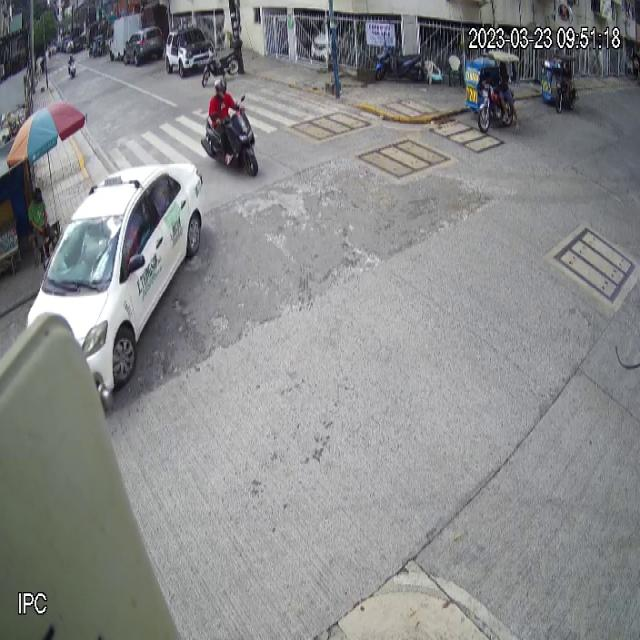Car: (24, 162, 206, 393)
Motorcycle: (200, 94, 262, 178), (375, 42, 424, 84), (202, 38, 242, 88)
Tricycle: (465, 50, 519, 133)
